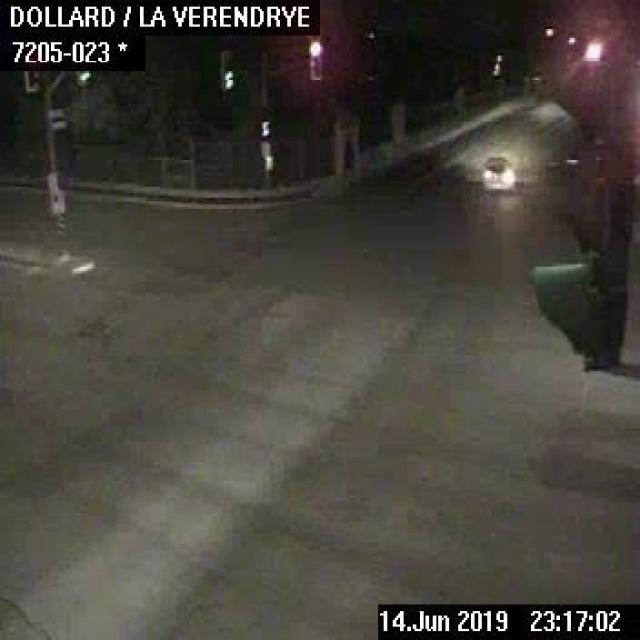vehicle: (476, 151, 516, 191)
